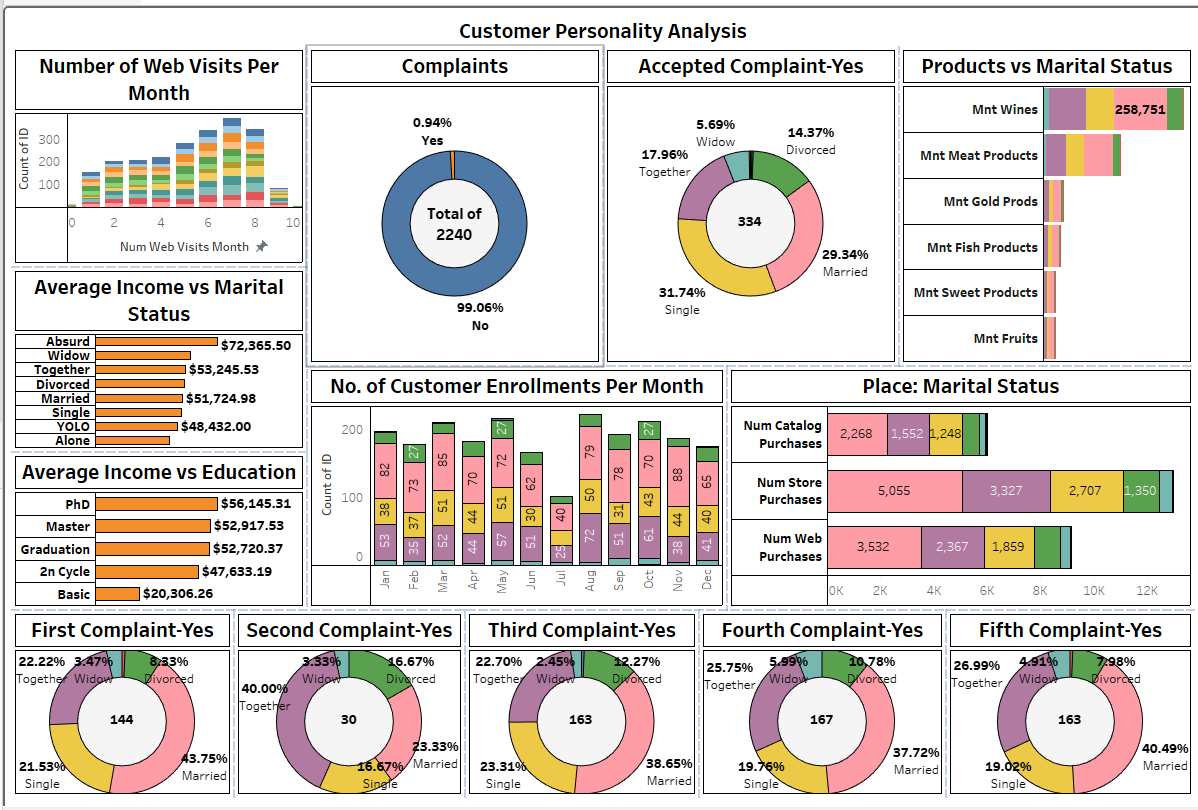

The page's visual inventory and layout, read from the dashboard file:
{"tool":"tableau","page":{"name":"Dashboard 1","canvas":[1200,800],"ordinal":0},"visuals":[{"type":"text","box":[8,8,1184,32]},{"type":"worksheet","title":"No. of Web Visits Per Month By Marital Status","mark":"Bar","rows":["ID"],"cols":["NumWebVisitsMonth"],"box":[8,40,296,221]},{"type":"worksheet","title":"Complains","mark":"Pie","rows":["Calculation_1488721156010090499","Calculation_1488721156010102789"],"box":[304,40,296,320]},{"type":"worksheet","title":"Accepted Complaints","mark":"Pie","rows":["Calculation_1488721156010090499","Calculation_1488721156010102789"],"box":[600,40,296,320]},{"type":"worksheet","title":"Products vs Marital Status","mark":"Bar","box":[896,40,296,320]},{"type":"worksheet","title":"Average Income vs Marital Status","mark":"Bar","rows":["Marital_Status"],"cols":["Income"],"box":[8,261,296,185]},{"type":"worksheet","title":"No. of Customer Enrollments Per Month","mark":"Bar","rows":["ID"],"cols":["Dt_Customer"],"box":[304,360,420,244]},{"type":"worksheet","title":"place: Marital Status","mark":"Automatic","box":[724,360,468,244]},{"type":"worksheet","title":"Average Income vs Education","mark":"Bar","rows":["Education"],"cols":["Income"],"box":[8,446,296,158]},{"type":"worksheet","title":"First Complaint-Yes","mark":"Pie","rows":["Calculation_1488721156010090499","Calculation_1488721156010102789"],"box":[8,604,223,188]},{"type":"worksheet","title":"Second Complaint-Yes","mark":"Pie","rows":["Calculation_1488721156010090499","Calculation_1488721156010102789"],"box":[231,604,231,188]},{"type":"worksheet","title":"Third Complain-Yes","mark":"Pie","rows":["Calculation_1488721156010090499","Calculation_1488721156010102789"],"box":[462,604,234,188]},{"type":"worksheet","title":"Fourth Complain-Yes","mark":"Pie","rows":["Calculation_1488721156010090499","Calculation_1488721156010102789"],"box":[696,604,247,188]},{"type":"worksheet","title":"Fifth Complain-Yes","mark":"Pie","rows":["Calculation_1488721156010090499","Calculation_1488721156010102789"],"box":[943,604,249,188]}]}

Visuals, with their boxes in screenshot pixels (x1, y1, x2, y2), scaled from the page's 1200x800 canvas onto the 1198x810 screenshot:
text: region(8, 8, 1190, 40)
"No. of Web Visits Per Month By Marital Status" worksheet (Bar marks): region(8, 40, 303, 264)
"Complains" worksheet (Pie marks): region(303, 40, 599, 364)
"Accepted Complaints" worksheet (Pie marks): region(599, 40, 895, 364)
"Products vs Marital Status" worksheet (Bar marks): region(895, 40, 1190, 364)
"Average Income vs Marital Status" worksheet (Bar marks): region(8, 264, 303, 452)
"No. of Customer Enrollments Per Month" worksheet (Bar marks): region(303, 364, 723, 612)
"place: Marital Status" worksheet: region(723, 364, 1190, 612)
"Average Income vs Education" worksheet (Bar marks): region(8, 452, 303, 612)
"First Complaint-Yes" worksheet (Pie marks): region(8, 612, 231, 802)
"Second Complaint-Yes" worksheet (Pie marks): region(231, 612, 461, 802)
"Third Complain-Yes" worksheet (Pie marks): region(461, 612, 695, 802)
"Fourth Complain-Yes" worksheet (Pie marks): region(695, 612, 941, 802)
"Fifth Complain-Yes" worksheet (Pie marks): region(941, 612, 1190, 802)
